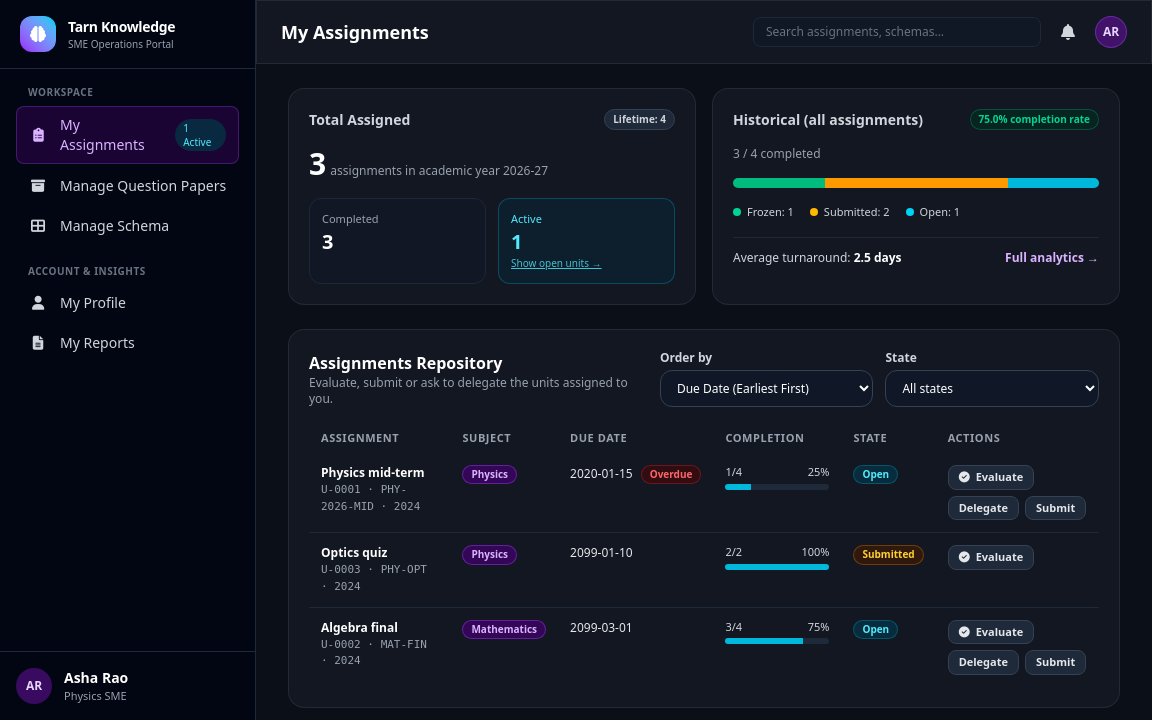
Test case: the notification bell (P37, D227) › says so when there is nothing
Click the button named "Notifications".
click(1068, 32)  # box x1=1053 y1=12 x2=1083 y2=52
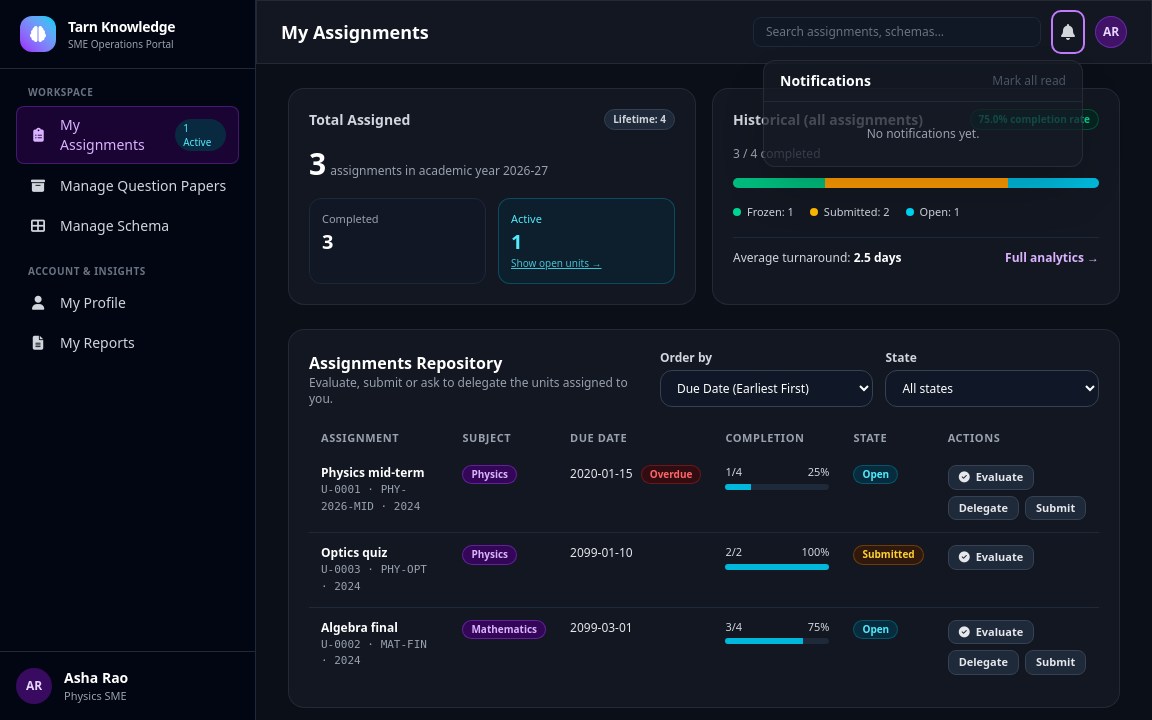
Expected: the text "No notifications yet." is shown, x1=867 y1=125 x2=979 y2=142
Expected: the button "Mark all read" is disabled, x1=992 y1=73 x2=1066 y2=89
